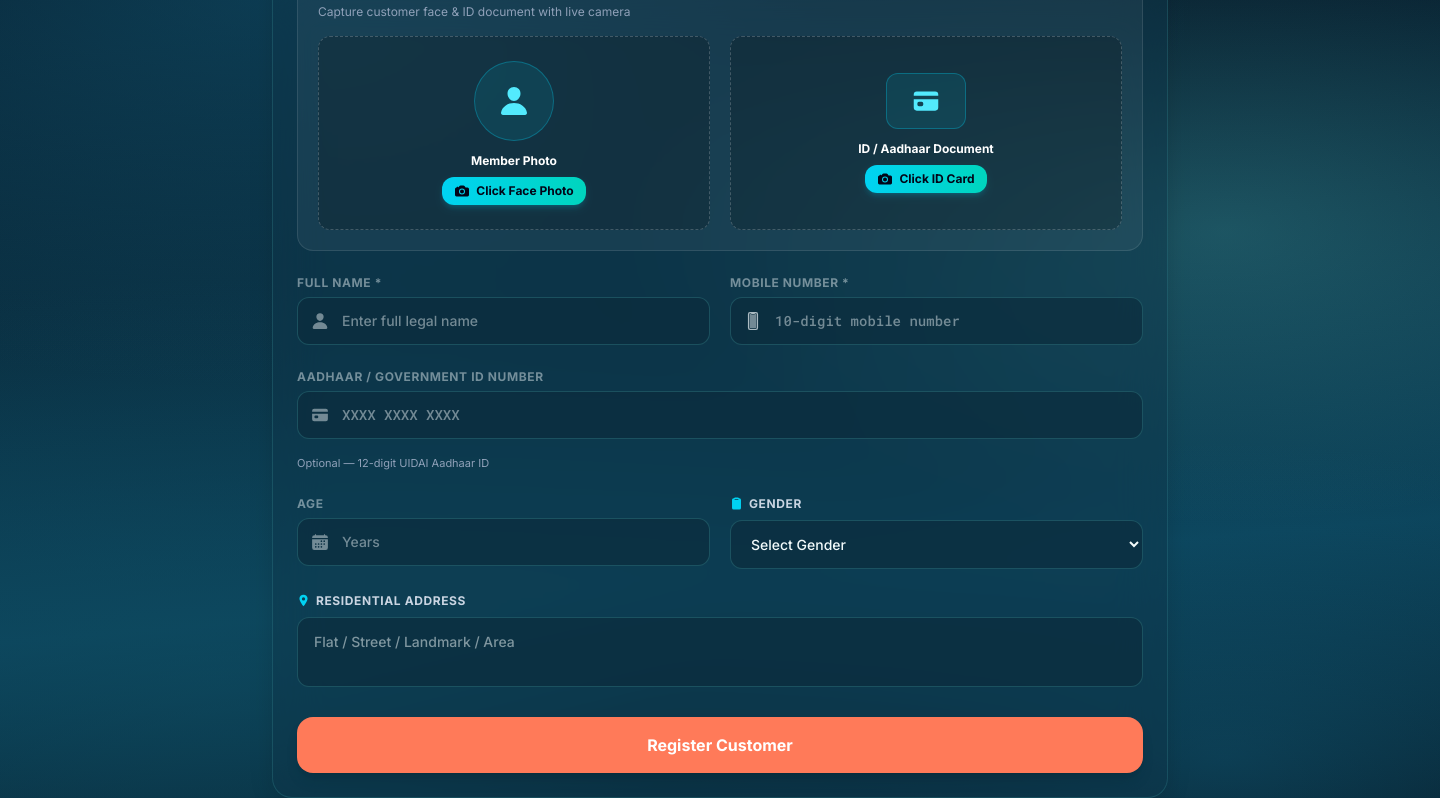
Scenario: AddCustomerPage › shows validation errors when submitting empty required fields
(page scrolled)
Click the button "Register Customer".
click(720, 744)  # box [297, 716, 1143, 772]
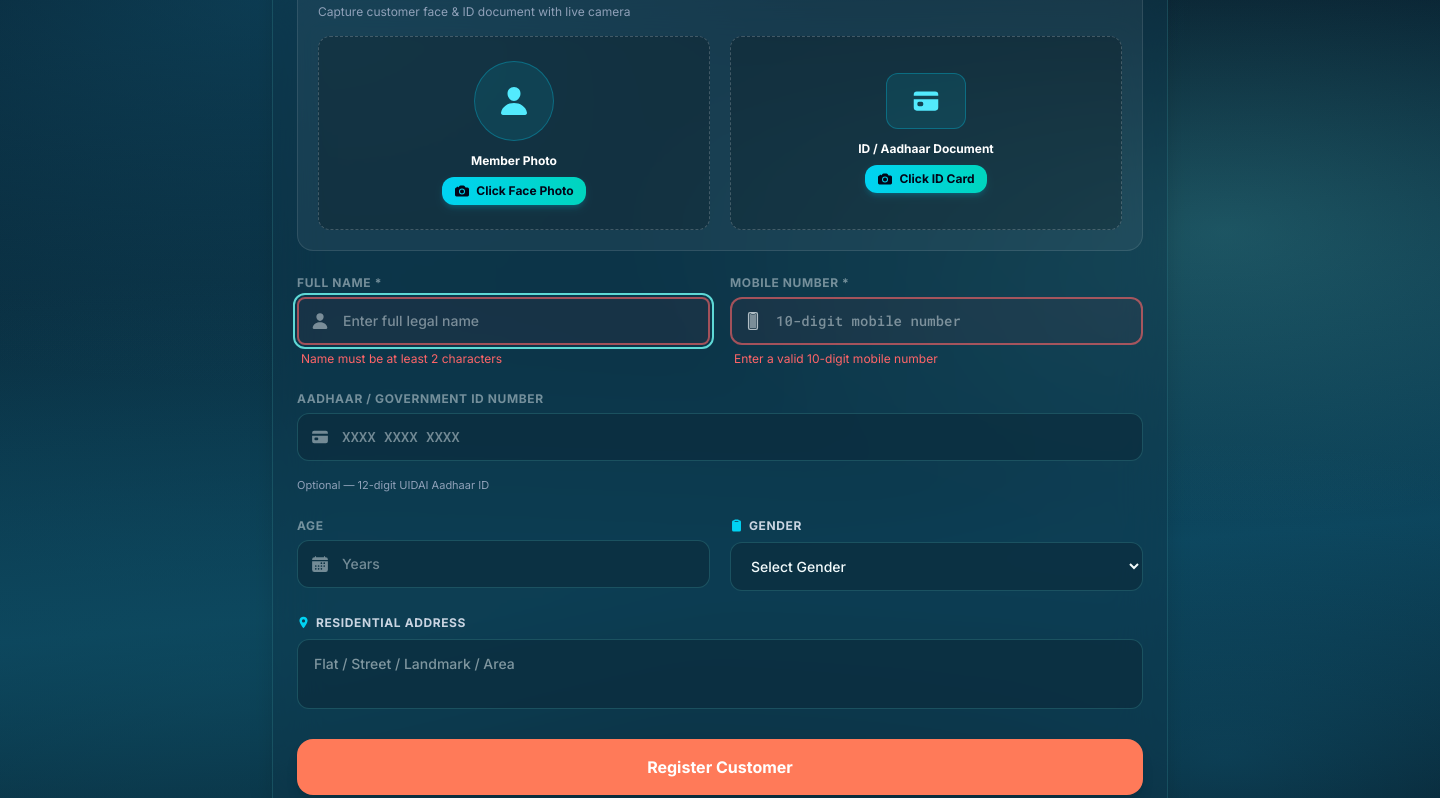
Now the text "Name must be at least 2 characters" is shown, box [301, 351, 502, 366]
Now the text "Enter a valid 10-digit mobile number" is shown, box [734, 351, 938, 366]
